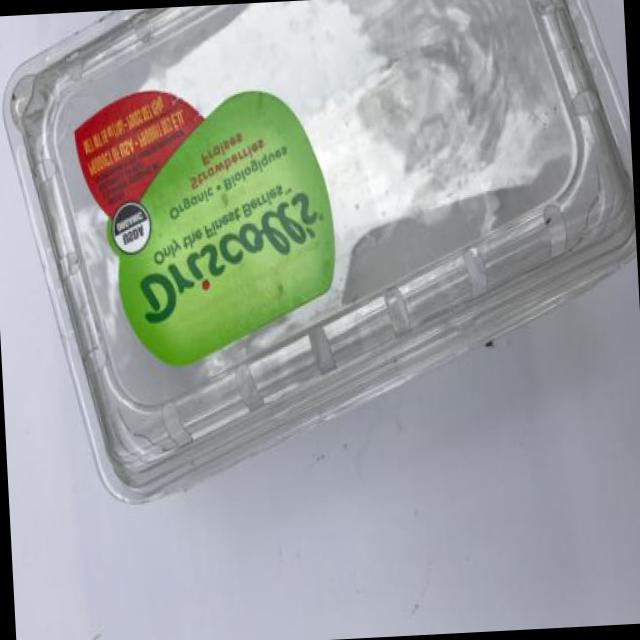Clamshell: (0, 0, 640, 527)
Label: (69, 76, 346, 389)
